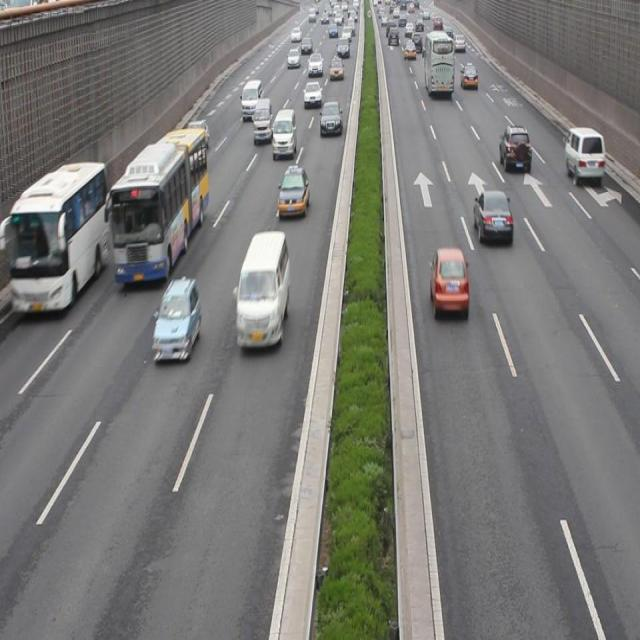car: (152, 279, 200, 365), (430, 247, 469, 321), (472, 192, 512, 243), (277, 165, 308, 219), (498, 126, 530, 173), (184, 118, 209, 150), (319, 101, 342, 134)
truck: (236, 230, 289, 353), (563, 127, 602, 182), (272, 109, 296, 160), (252, 99, 273, 144)
van: (110, 127, 208, 284), (10, 164, 109, 315)
